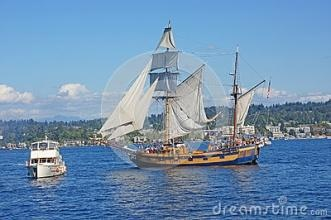fanchuan: (101, 44, 297, 168)
otherboat: (25, 134, 69, 181)
